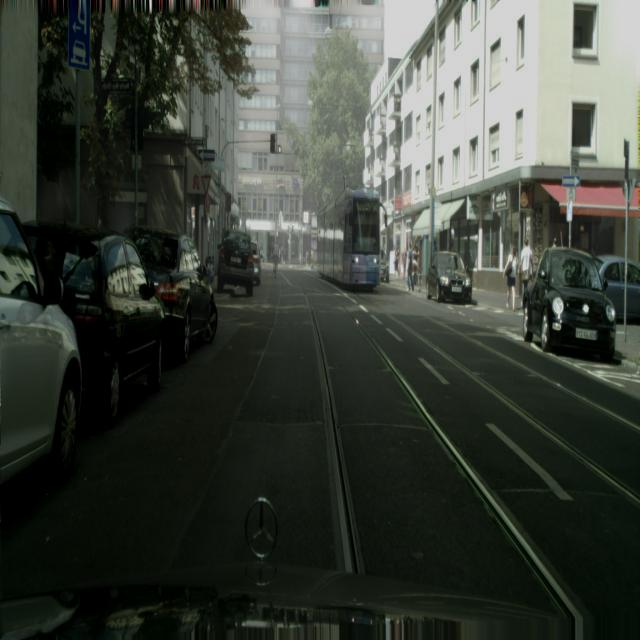bicycle: (317, 188, 381, 291)
bus: (503, 242, 518, 311), (519, 238, 533, 306), (406, 246, 413, 292)
person: (22, 217, 166, 429), (0, 196, 84, 494), (124, 226, 218, 364), (522, 246, 617, 361), (595, 256, 640, 324), (217, 231, 255, 298), (426, 250, 472, 303), (251, 242, 262, 285)
